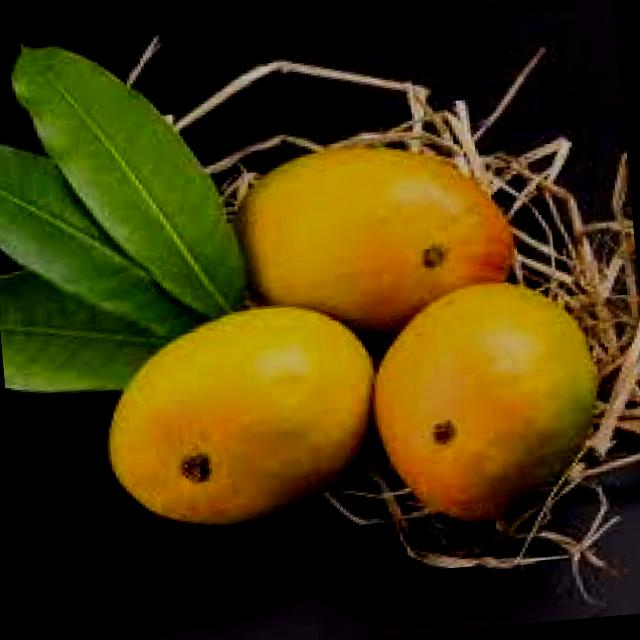Mango: (92, 294, 386, 536), (227, 128, 520, 350), (359, 272, 606, 531)
